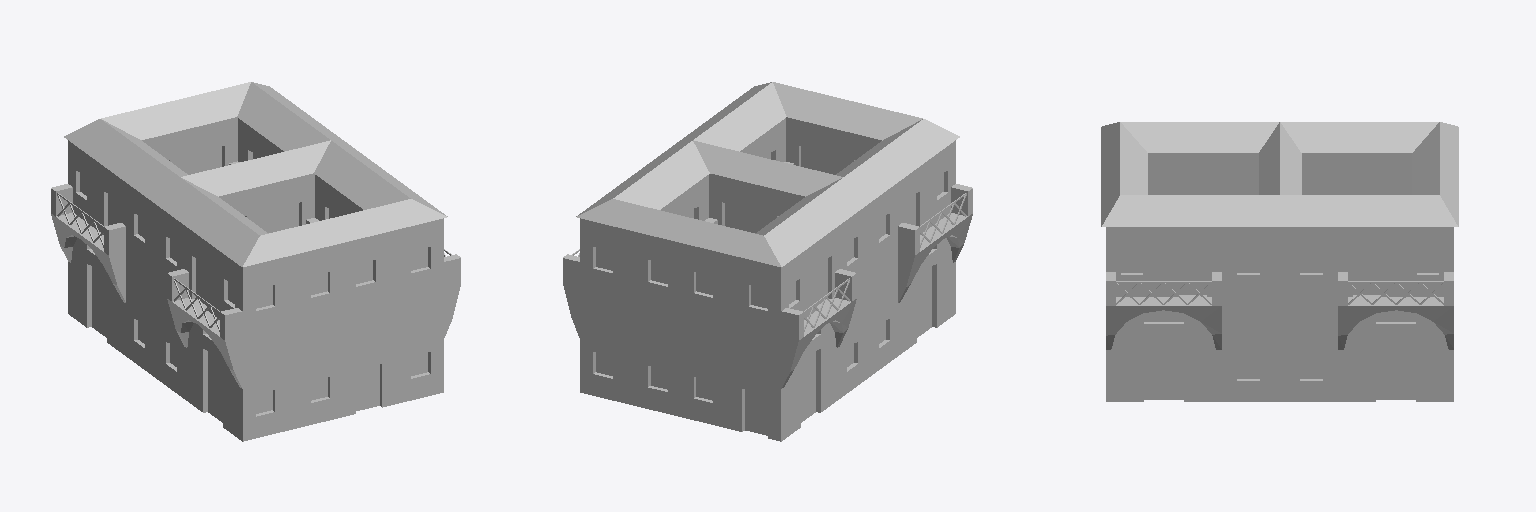
File: insulae.obj
3 views of the same model, side by side, from view 1: azimuth 30°, elevation 25°; view 2: azimuth 150°, elevation 25°; view 3: azimuth 270°, elevation 25° (orthographic).
Visible parts, largest first — view 1: insula1_Cube.021; view 2: insula1_Cube.021; view 3: insula1_Cube.021.
Part boxes in pixels (x1,y1,x2,y2): insula1_Cube.021: (51, 82, 460, 441); insula1_Cube.021: (563, 82, 972, 441); insula1_Cube.021: (1101, 122, 1458, 401).
Size of the model in its own units: 0.675 by 0.5312 by 0.8841.